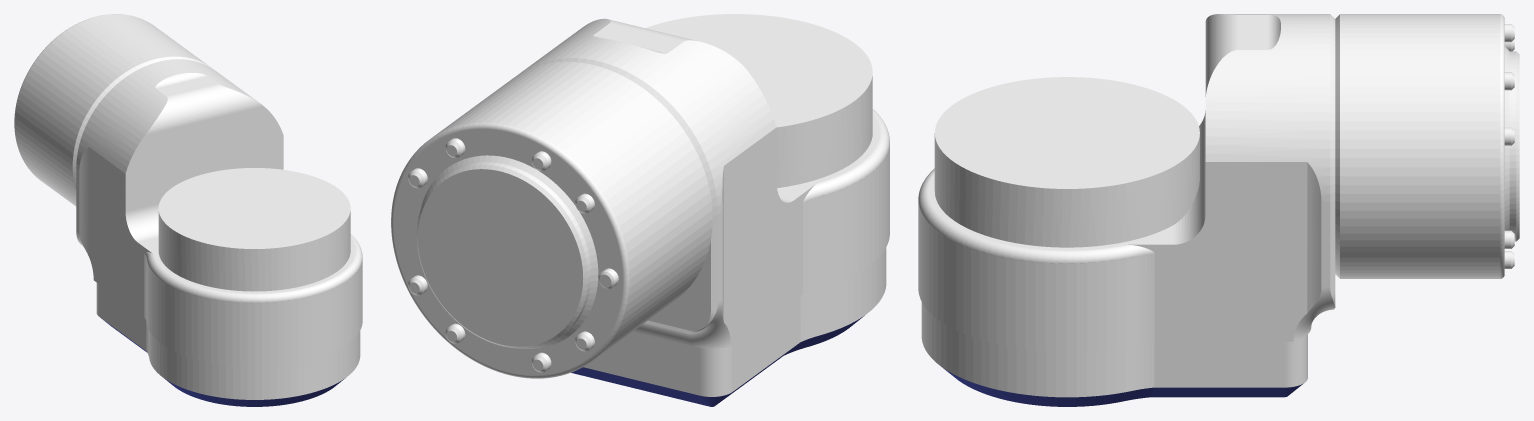
3 views of the same model, side by side, from view 1: azimuth 30°, elevation 25°; view 2: azimuth 150°, elevation 25°; view 3: azimuth 270°, elevation 25° (orthographic). The views are drawn at different scales.
Parts seen in each view (by area): view 1: Lilnk_B; view 2: Lilnk_B; view 3: Lilnk_B.
Part boxes in pixels (box(x1,y1,x2,y2)): Lilnk_B: box(14, 14, 362, 406); Lilnk_B: box(391, 14, 889, 406); Lilnk_B: box(918, 14, 1519, 406).
Size of the model in its own units: 0.09 by 0.1815 by 0.109.
1 material, 1 textured.
